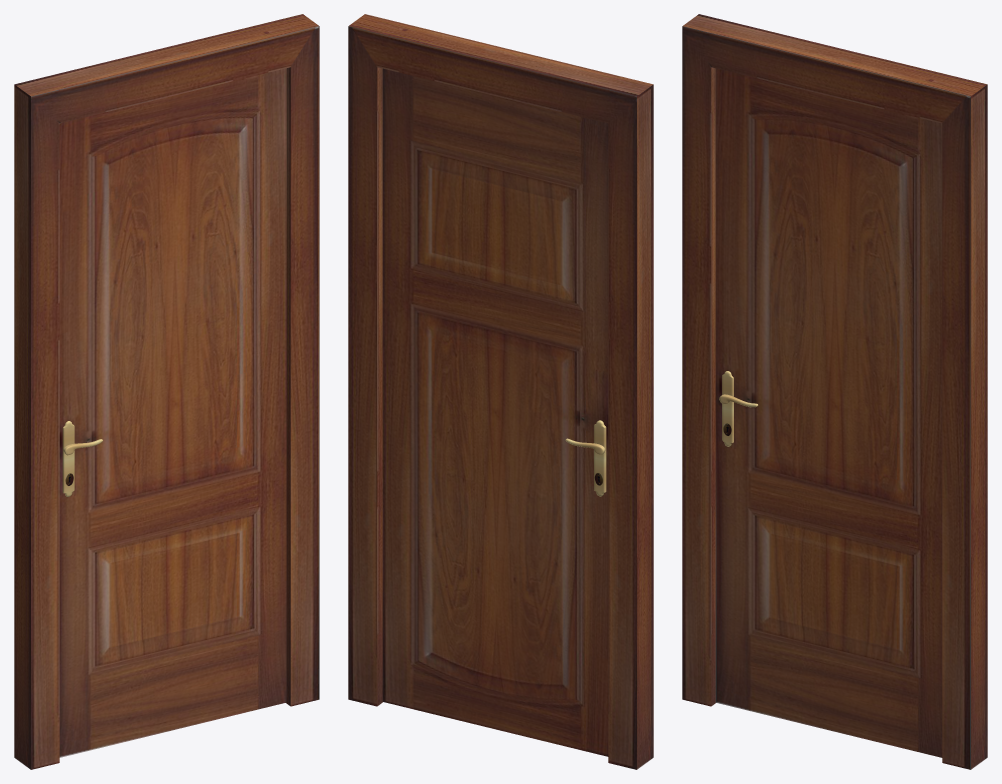
The model's file is door3.fbx.
3 renders of one model, left to right at view 1: azimuth 30°, elevation 25°; view 2: azimuth 150°, elevation 25°; view 3: azimuth 330°, elevation 25°, orthographic.
Visible parts, largest first — view 1: pCube1, capostipite, pCube2; view 2: pCube1, capostipite, pCube2; view 3: pCube1, capostipite, pCube2.
Part boxes in pixels (<box>): pCube1: <box>59,68,286,757</box>; capostipite: <box>14,14,319,769</box>; pCube2: <box>62,421,74,496</box>; pCube1: <box>382,68,608,756</box>; capostipite: <box>348,14,653,769</box>; pCube2: <box>594,420,606,496</box>; pCube1: <box>715,68,942,757</box>; capostipite: <box>682,14,987,769</box>; pCube2: <box>722,371,733,446</box>.
Size of the model in its own units: 9.13 by 20.36 by 0.9091.
Materials: 1 (1 with a texture image).
